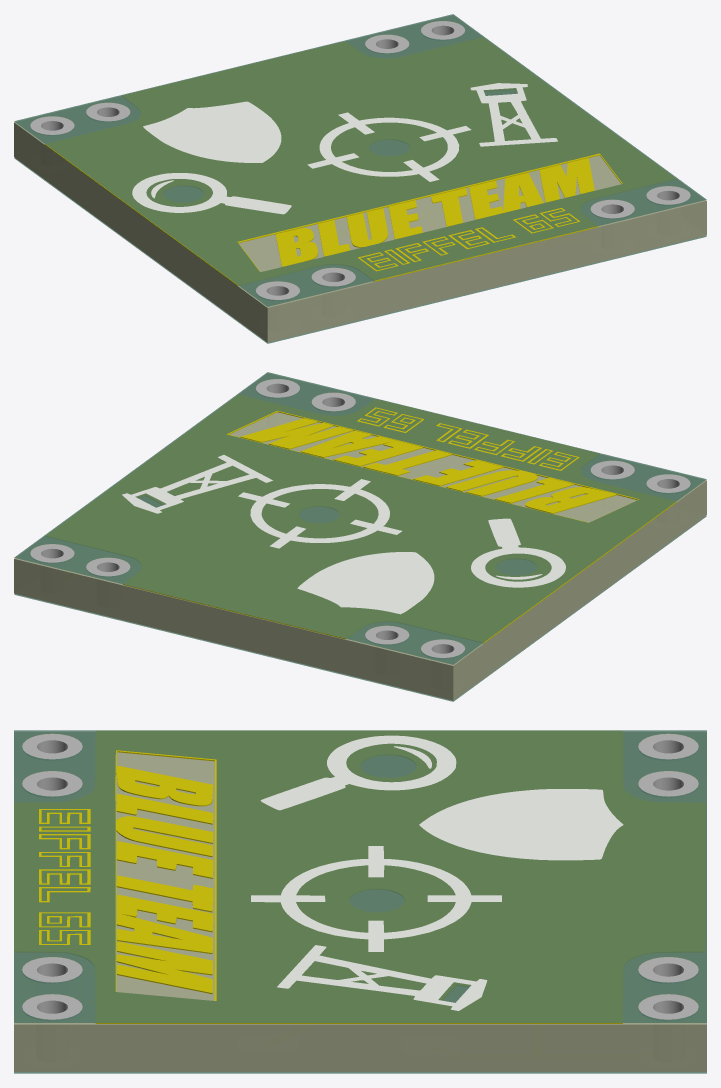
Rendered from blue-team-community-minibadge-v2.glb.
3 renders of one model, top to bottom at view 1: azimuth 30°, elevation 25°; view 2: azimuth 150°, elevation 25°; view 3: azimuth 270°, elevation 25°, orthographic. The views are drawn at different scales.
Parts seen in each view (by area): view 1: =>[0:1:1:2], =>[0:1:1:6], =>[0:1:1:8], =>[0:1:1:4]; view 2: =>[0:1:1:2], =>[0:1:1:6], =>[0:1:1:8], =>[0:1:1:4]; view 3: =>[0:1:1:2], =>[0:1:1:6], =>[0:1:1:8], =>[0:1:1:4].
Part boxes in pixels (<box>): =>[0:1:1:2]: <box>30,21,690,300</box>; =>[0:1:1:6]: <box>14,14,706,343</box>; =>[0:1:1:8]: <box>14,16,706,342</box>; =>[0:1:1:4]: <box>132,83,557,214</box>; =>[0:1:1:2]: <box>30,379,690,658</box>; =>[0:1:1:6]: <box>14,372,706,701</box>; =>[0:1:1:8]: <box>14,374,706,700</box>; =>[0:1:1:4]: <box>122,455,565,614</box>; =>[0:1:1:2]: <box>14,731,705,1023</box>; =>[0:1:1:6]: <box>14,730,706,1073</box>; =>[0:1:1:8]: <box>14,732,706,1071</box>; =>[0:1:1:4]: <box>251,735,623,1010</box>.
Bounding box in the file's own units: 0.02 × 0.00166 × 0.02.
Materials: 4 (4 with a texture image).
